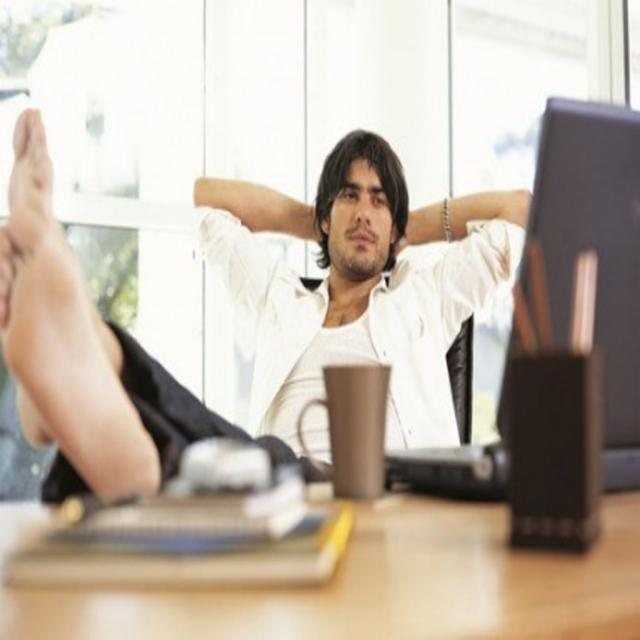desk: (0, 499, 639, 638)
laptop: (517, 97, 639, 488)
person: (192, 131, 530, 470)
